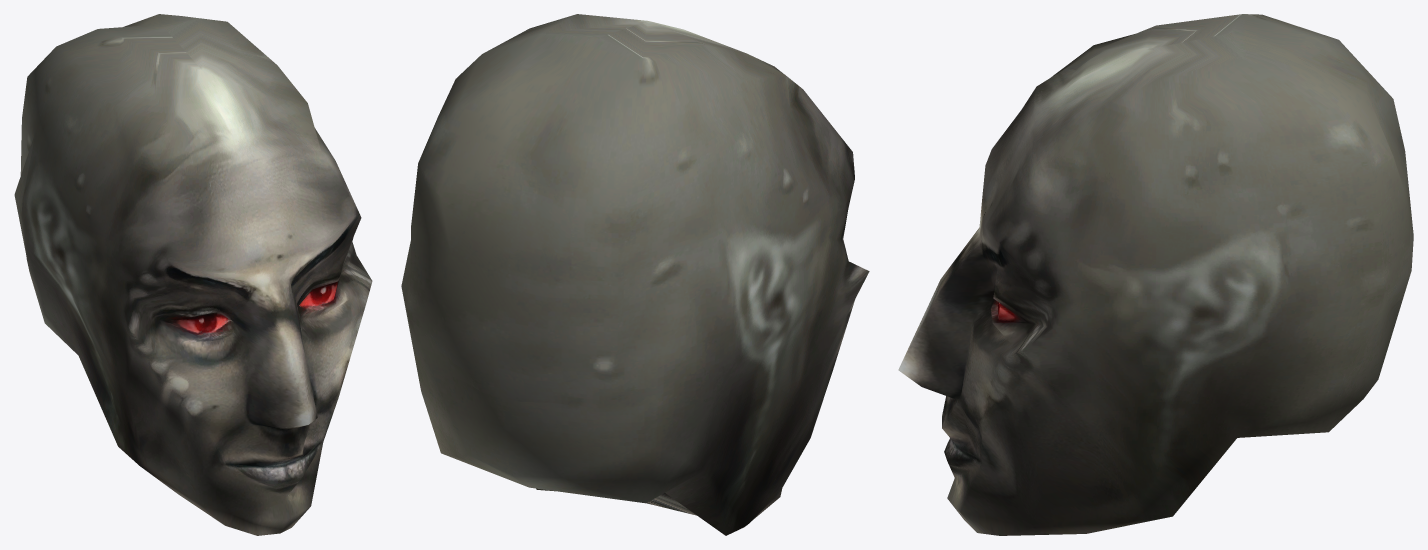
File: b_n_dark elf_m_head_07.glb
The picture shows the model from 3 angles, left to right: view 1: azimuth 30°, elevation 25°; view 2: azimuth 150°, elevation 25°; view 3: azimuth 270°, elevation 25°; orthographic projection. The views are drawn at different scales.
Parts seen in each view (by area): view 1: Tri B_N_Dark Elf_M_Head_07; view 2: Tri B_N_Dark Elf_M_Head_07; view 3: Tri B_N_Dark Elf_M_Head_07.
Boxes of the visible parts, x1,y1,x2,y2 form: Tri B_N_Dark Elf_M_Head_07: (14, 14, 372, 535); Tri B_N_Dark Elf_M_Head_07: (401, 14, 869, 535); Tri B_N_Dark Elf_M_Head_07: (898, 14, 1413, 535).
Bounding box in the file's own units: 0.0913 × 0.1513 × 0.1442.
Materials: 1 (1 with a texture image).
